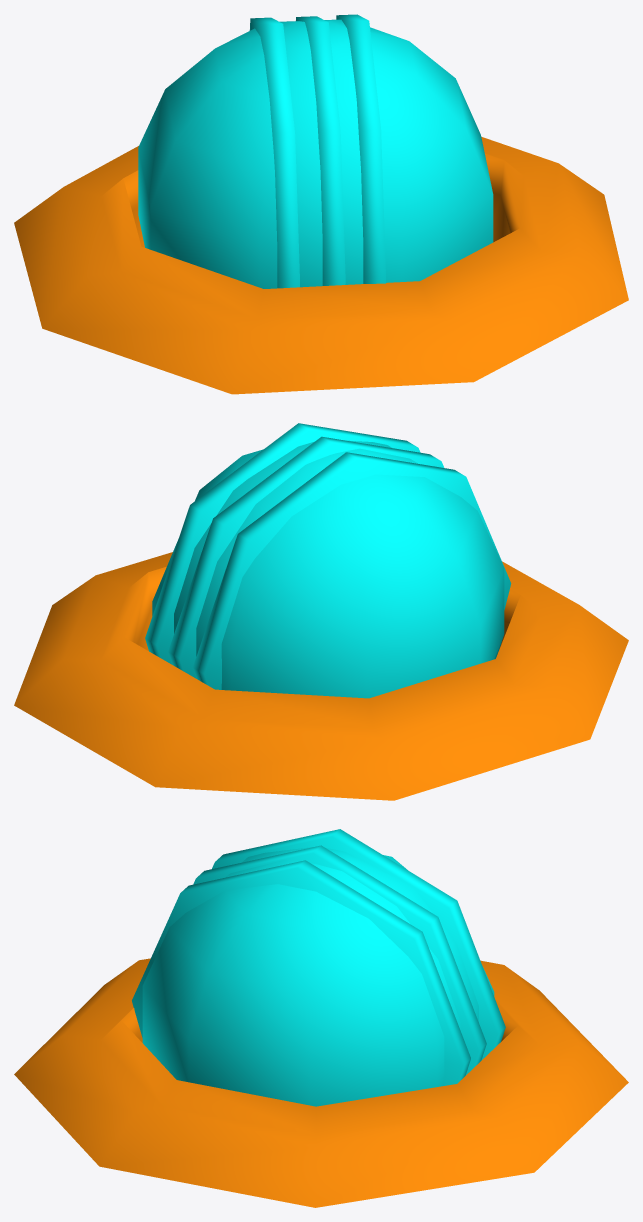
Rendered from Lago_Helado LP 2.fbx.
3 renders of one model, top to bottom at view 1: azimuth 30°, elevation 25°; view 2: azimuth 150°, elevation 25°; view 3: azimuth 270°, elevation 25°, orthographic. The views are drawn at different scales.
Parts seen in each view (by area): view 1: Helado LP 2; view 2: Helado LP 2; view 3: Helado LP 2.
Boxes of the visible parts, box(x1,y1,x2,y2) form: Helado LP 2: box(14, 14, 628, 394); Helado LP 2: box(14, 423, 628, 800); Helado LP 2: box(14, 829, 628, 1207).
Bounding box in the file's own units: 251 × 120 × 254.
